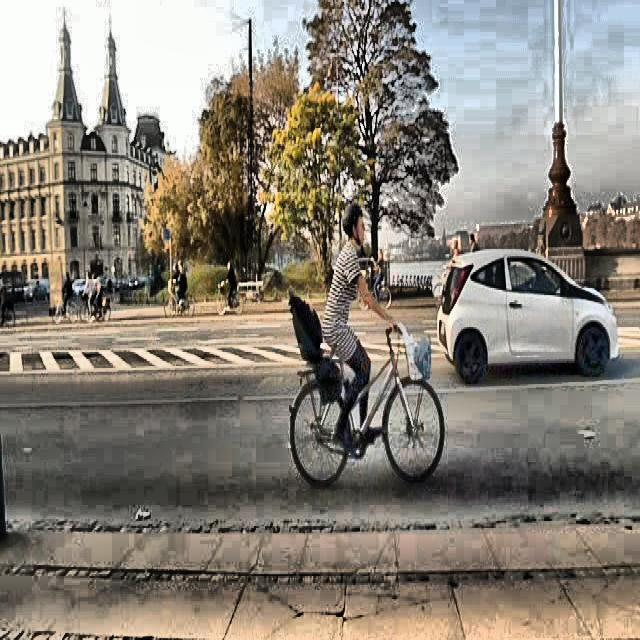bicycle: (284, 318, 448, 494)
